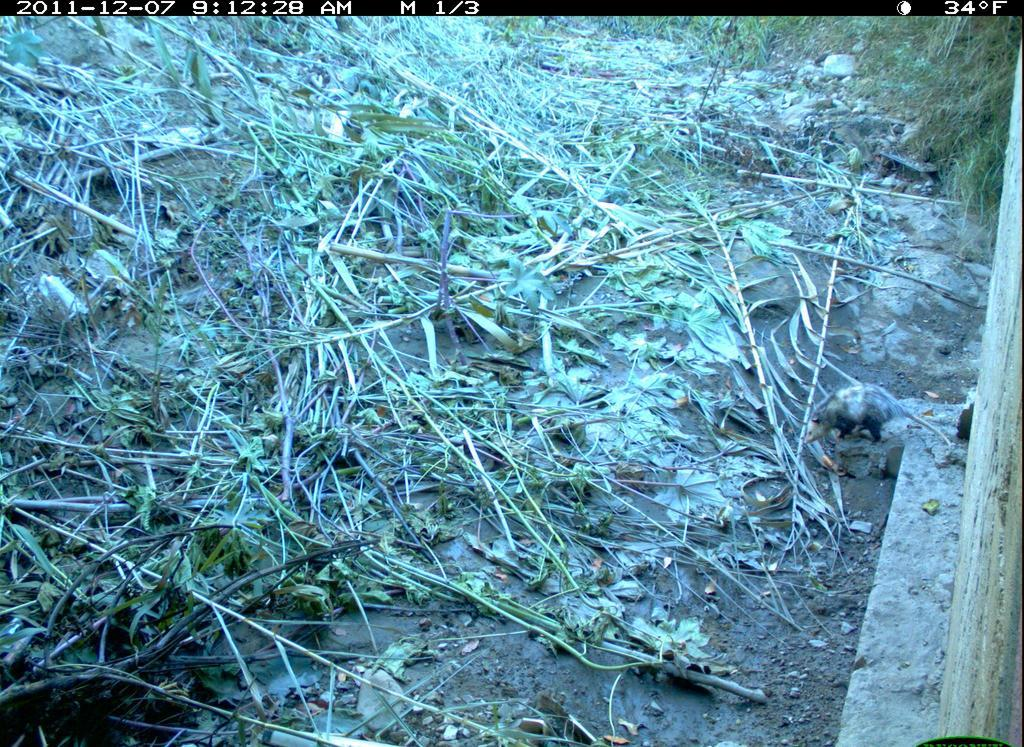opossum: (801, 374, 955, 465)
